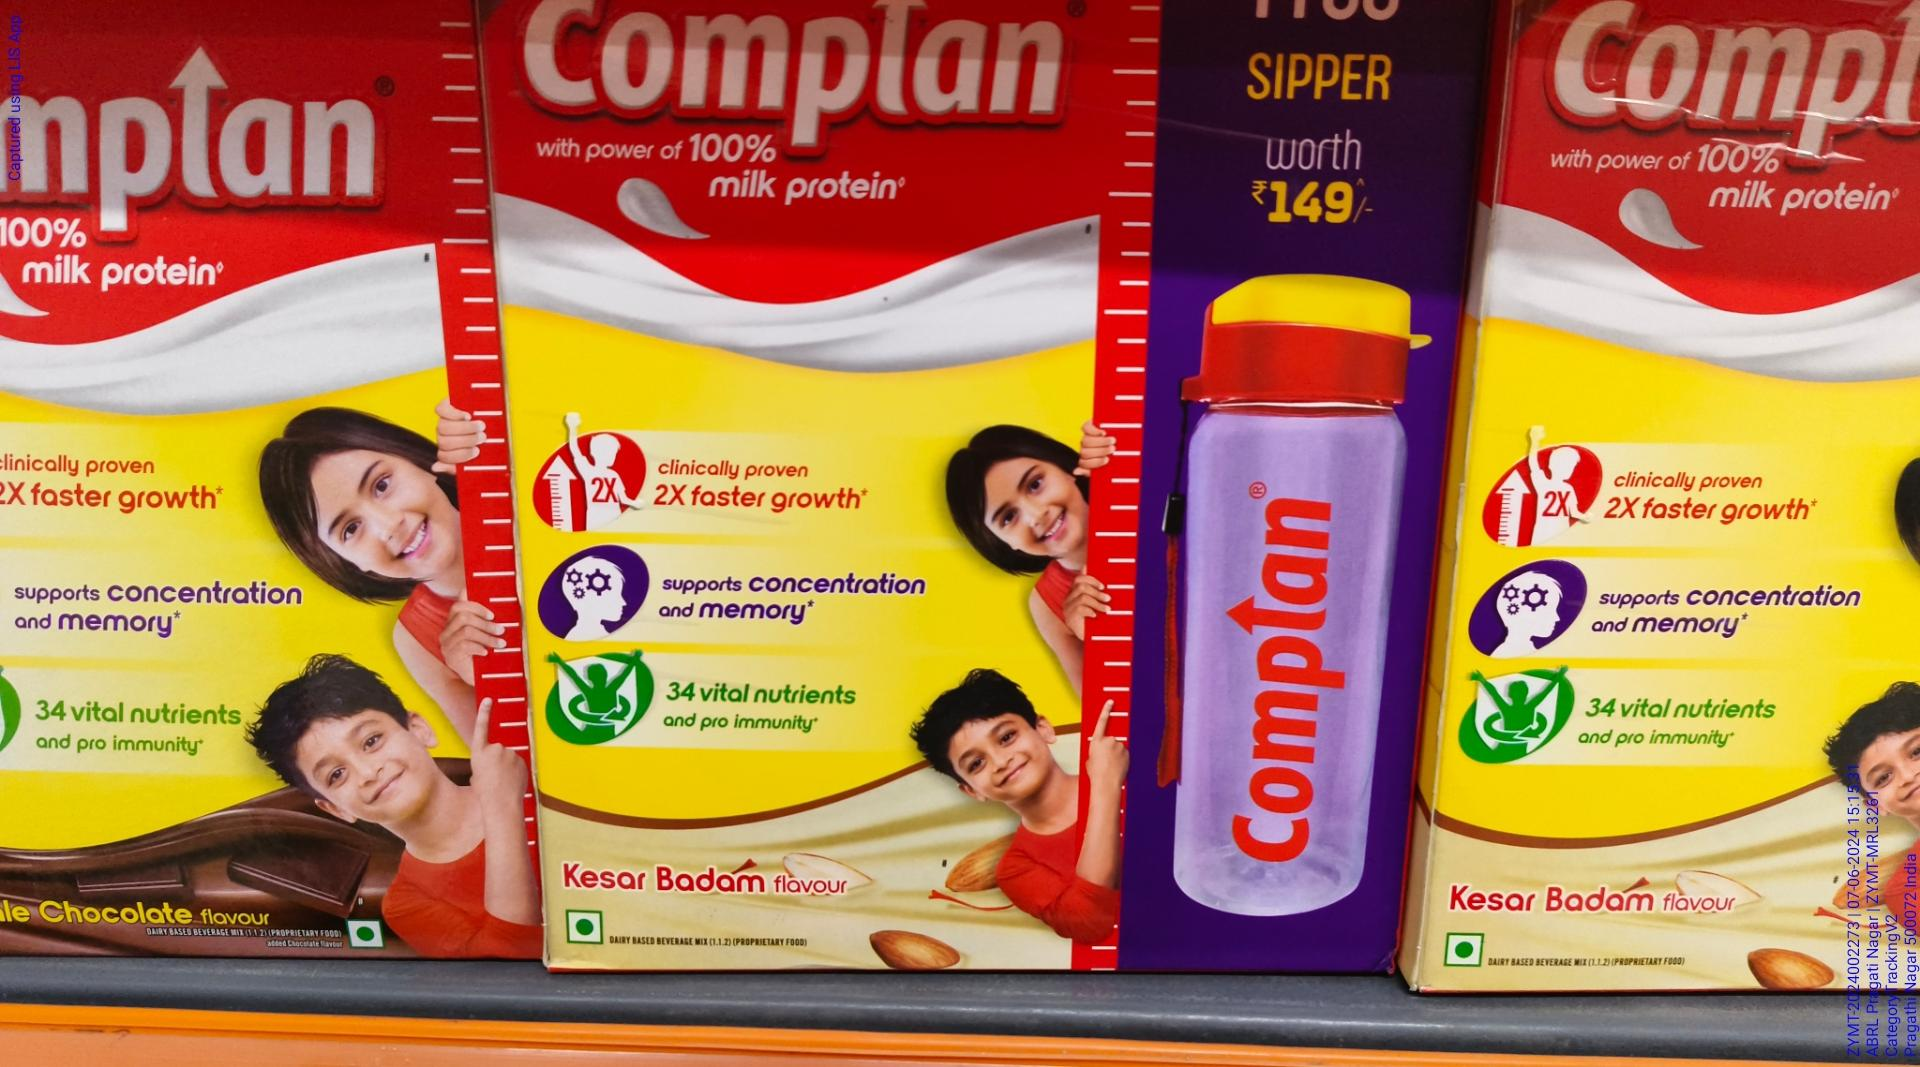COMPLAN_KESAR_BADAM_500_GMS_PACK: (498, 4, 1106, 965), (1452, 7, 1920, 1000)
